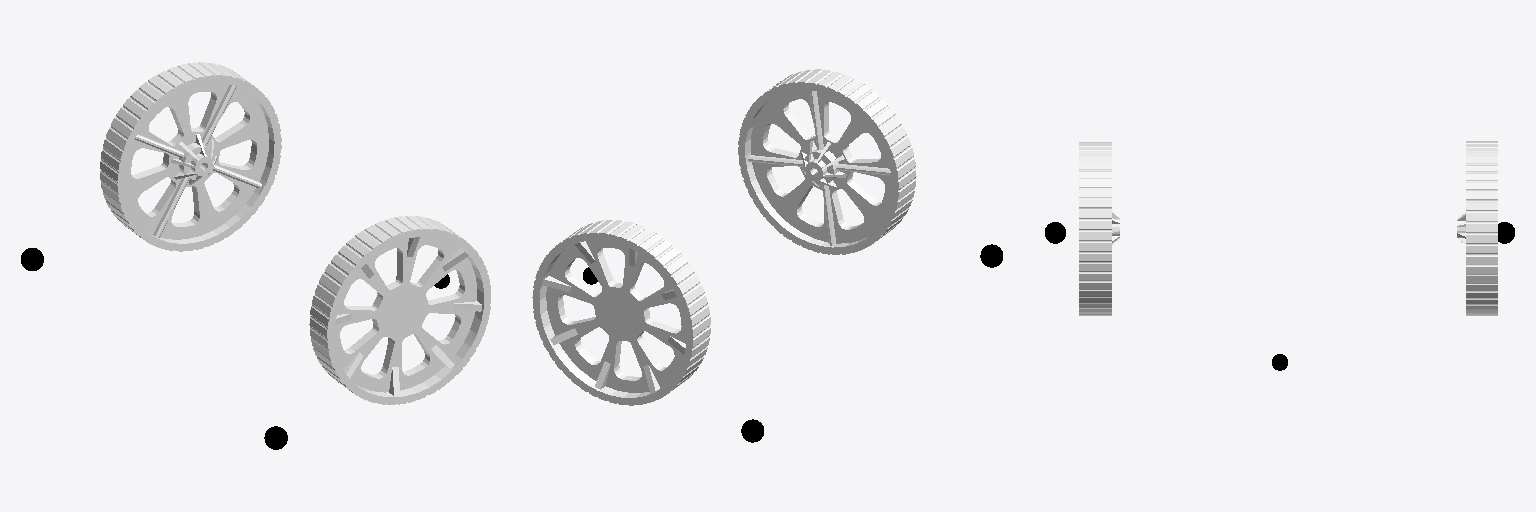
robot.urdf — robot:
<?xml version="1.0" ?>
<!-- =================================================================================== -->
<!-- |    This document was autogenerated by xacro from robot.urdf.xacro               | -->
<!-- |    EDITING THIS FILE BY HAND IS NOT RECOMMENDED                                 | -->
<!-- =================================================================================== -->
<robot name="robot">
  <!-- Specify some standard inertial calculations https://en.wikipedia.org/wiki/List_of_moments_of_inertia -->
  <!-- These make use of xacro's mathematical functionality -->
  <material name="white">
    <color rgba="1 1 1 1"/>
  </material>
  <material name="blue">
    <color rgba="0 0 1 1"/>
  </material>
  <material name="brown">
    <color rgba="0.918 0.867 0.792 1"/>
  </material>
  <material name="black">
    <color rgba="0 0 0 1"/>
  </material>
  <material name="green">
    <color rgba="0 1 0 1"/>
  </material>
  <link name="base_link">
    </link>
  <joint name="chassis_joint" type="fixed">
    <parent link="base_link"/>
    <child link="chassis"/>
    <origin xyz="-0.1 0 0"/>
  </joint>
  <link name="chassis">
    <visual>
      <origin xyz="0.10125 0 0.010"/>
      <geometry>
        <mesh filename="package://tankbot/meshes/chassis.stl"/>
      </geometry>
      <material name="brown"/>
    </visual>
    <collision>
      <origin xyz="0.1015 0 0.05"/>
      <geometry>
        <box size="0.215 0.201 0.10"/>
      </geometry>
    </collision>
    <inertial>
      <mass value="1"/>
      <inertia ixx="0.00556875" ixy="0.0" ixz="0.00489336" iyy="0.025445" iyz="0.0" izz="0.0276345"/>
    </inertial>
  </link>
  <gazebo reference="chassis">
    <material>Gazebo/Blue</material>
  </gazebo>
  <joint name="left_wheel_joint" type="continuous">
    <parent link="base_link"/>
    <child link="left_wheel"/>
    <origin rpy="-1.5707963267948966 0 0" xyz="0 0.1105 0.044"/>
    <axis xyz="0 0 1"/>
  </joint>
  <link name="left_wheel">
    <visual>
      <geometry>
        <mesh filename="package://tankbot/meshes/left_wheel_link.stl"/>
      </geometry>
      <material name="white"/>
    </visual>
    <collision>
      <geometry>
        <cylinder length="0.02" radius="0.052"/>
      </geometry>
    </collision>
    <inertial>
      <origin rpy="0 0 0" xyz="0 0 0"/>
      <mass value="0.08"/>
      <inertia ixx="5.6746666666666656e-05" ixy="0.0" ixz="0.0" iyy="5.6746666666666656e-05" iyz="0.0" izz="0.00010816"/>
    </inertial>
  </link>
  <gazebo reference="left_wheel">
    <material>Gazebo/White</material>
  </gazebo>
  <joint name="right_wheel_joint" type="continuous">
    <parent link="base_link"/>
    <child link="right_wheel"/>
    <origin rpy="1.5707963267948966 0 0" xyz="0 -0.10 0.044"/>
    <axis xyz="0 0 -1"/>
  </joint>
  <link name="right_wheel">
    <visual>
      <geometry>
        <mesh filename="package://tankbot/meshes/right_wheel_link.stl"/>
      </geometry>
      <material name="white"/>
    </visual>
    <collision>
      <geometry>
        <cylinder length="0.02" radius="0.052"/>
      </geometry>
    </collision>
    <inertial>
      <origin rpy="0 0 0" xyz="0 0 0"/>
      <mass value="0.08"/>
      <inertia ixx="5.6746666666666656e-05" ixy="0.0" ixz="0.0" iyy="5.6746666666666656e-05" iyz="0.0" izz="0.00010816"/>
    </inertial>
  </link>
  <gazebo reference="right_wheel">
    <material>Gazebo/White</material>
  </gazebo>
  <joint name="caster_wheel_joint" type="fixed">
    <parent link="chassis"/>
    <child link="caster_wheel"/>
    <origin xyz="0.189 0 -0.0025"/>
  </joint>
  <link name="caster_wheel">
    <visual>
      <geometry>
        <sphere radius="0.005"/>
      </geometry>
      <material name="black"/>
    </visual>
    <collision>
      <geometry>
        <sphere radius="0.005"/>
      </geometry>
    </collision>
    <inertial>
      <origin rpy="0 0 0" xyz="0 0 0"/>
      <mass value="0.004"/>
      <inertia ixx="4e-08" ixy="0.0" ixz="0.0" iyy="4e-08" iyz="0.0" izz="4e-08"/>
    </inertial>
  </link>
  <gazebo reference="caster_wheel">
    <material>Gazebo/Black</material>
    <mu1 value="0.0001"/>
    <mu2 value="0.0001"/>
  </gazebo>
  <joint name="caster_wheel_back_left_joint" type="fixed">
    <parent link="chassis"/>
    <child link="caster_wheel_back_left"/>
    <origin xyz="0.0075 0.1337 -0.002"/>
  </joint>
  <link name="caster_wheel_back_left">
    <visual>
      <geometry>
        <sphere radius="0.0065"/>
      </geometry>
      <material name="black"/>
    </visual>
    <collision>
      <geometry>
        <sphere radius="0.0065"/>
      </geometry>
    </collision>
    <inertial>
      <origin rpy="0 0 0" xyz="0 0 0"/>
      <mass value="0.005"/>
      <inertia ixx="8.45e-08" ixy="0.0" ixz="0.0" iyy="8.45e-08" iyz="0.0" izz="8.45e-08"/>
    </inertial>
  </link>
  <gazebo reference="caster_wheel_back_left">
    <material>Gazebo/Black</material>
    <mu1 value="0.0001"/>
    <mu2 value="0.0001"/>
  </gazebo>
  <joint name="caster_wheel_back_right_joint" type="fixed">
    <parent link="chassis"/>
    <child link="caster_wheel_back_right"/>
    <origin xyz="0.0075 -0.1337 -0.002"/>
  </joint>
  <link name="caster_wheel_back_right">
    <visual>
      <geometry>
        <sphere radius="0.0065"/>
      </geometry>
      <material name="black"/>
    </visual>
    <collision>
      <geometry>
        <sphere radius="0.0065"/>
      </geometry>
    </collision>
    <inertial>
      <origin rpy="0 0 0" xyz="0 0 0"/>
      <mass value="0.005"/>
      <inertia ixx="8.45e-08" ixy="0.0" ixz="0.0" iyy="8.45e-08" iyz="0.0" izz="8.45e-08"/>
    </inertial>
  </link>
  <gazebo reference="caster_wheel_back_right">
    <material>Gazebo/Black</material>
    <mu1 value="0.0001"/>
    <mu2 value="0.0001"/>
  </gazebo>
  <gazebo>
    <plugin filename="libgazebo_ros_diff_drive.so" name="diff_drive">
      <!-- Wheel Information -->
      <left_joint>left_wheel_joint</left_joint>
      <right_joint>right_wheel_joint</right_joint>
      <wheel_separation>0.2</wheel_separation>
      <wheel_diameter>0.104</wheel_diameter>
      <!-- Limits -->
      <max_wheel_torque>200</max_wheel_torque>
      <max_wheel_acceleration>10.0</max_wheel_acceleration>
      <!-- Output -->
      <odometry_frame>odom</odometry_frame>
      <robot_base_frame>base_link</robot_base_frame>
      <publish_odom>true</publish_odom>
      <publish_odom_tf>true</publish_odom_tf>
      <publish_wheel_tf>true</publish_wheel_tf>
    </plugin>
  </gazebo>
</robot>

--- Facts derived from the render (not from the file) ---
The picture shows the robot from 3 angles, left to right: view 1: azimuth 30°, elevation 25°; view 2: azimuth 150°, elevation 25°; view 3: azimuth 270°, elevation 25°; orthographic projection.
Model robot with 7 links and 6 joints (2 continuous, 4 fixed), rooted at base_link, posed every joint at zero.
Links seen in each view (by area): view 1: left_wheel, right_wheel; view 2: right_wheel, left_wheel; view 3: right_wheel, left_wheel.
Link boxes in pixels (x1,y1,x2,y2): left_wheel: (100, 62, 281, 251); right_wheel: (309, 216, 490, 404); right_wheel: (738, 69, 916, 254); left_wheel: (532, 220, 710, 405); right_wheel: (1079, 141, 1119, 315); left_wheel: (1457, 141, 1497, 315).
Bounding box of the posed robot: 0.193 × 0.2804 × 0.1045 m (x, y, z).
Meshes: 3 distinct files referenced, 2 mesh visuals loaded (2 binary STL); not drawn: 1 (reference not matched to a file when rendering).